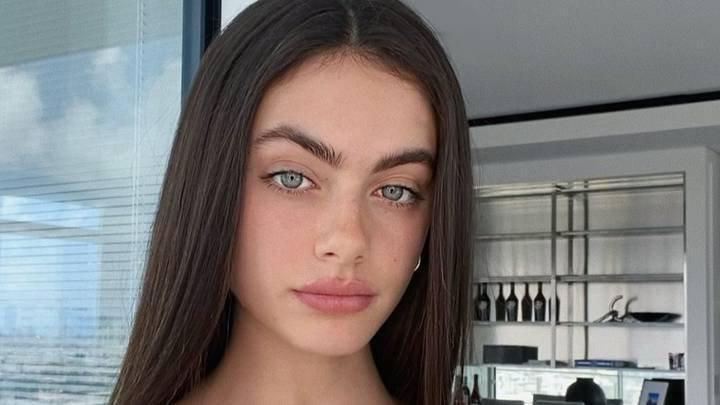Sober: (248, 71, 425, 338)
